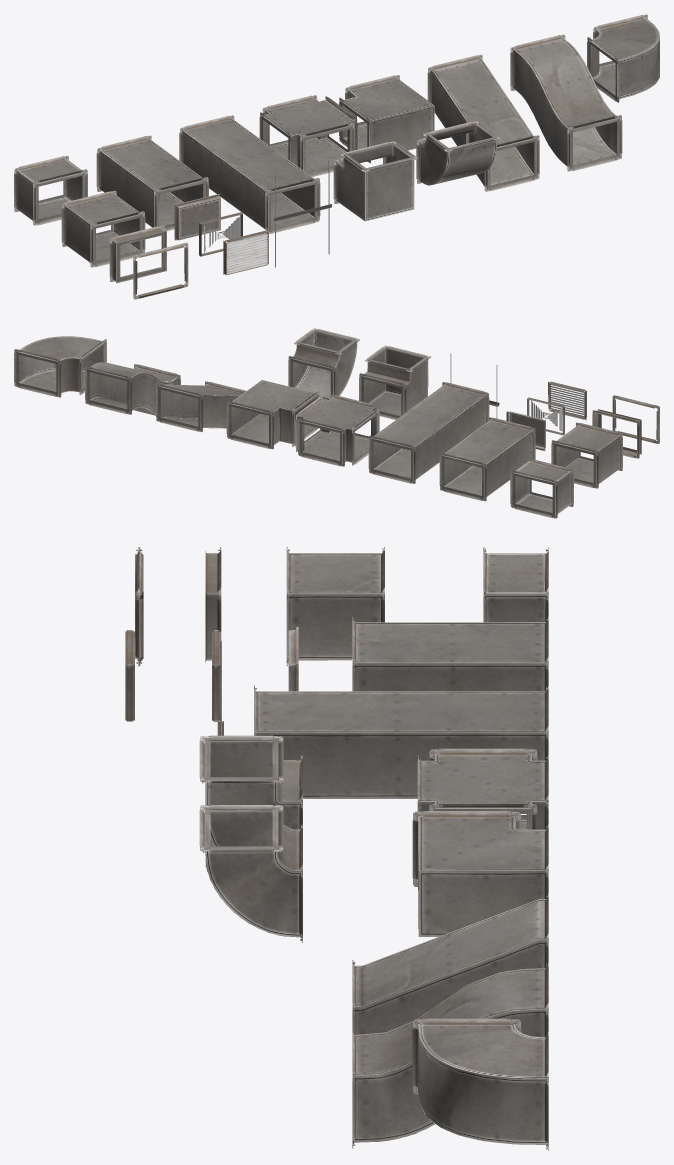
File: modular_airduct_rectangular_01_game.gltf
3 views of the same model, one above another, from view 1: azimuth 30°, elevation 25°; view 2: azimuth 150°, elevation 25°; view 3: azimuth 270°, elevation 25° (orthographic). The views are drawn at different scales.
Parts seen in each view (by area): view 1: modular_airduct_rectangular_01_transition_double_02, modular_airduct_rectangular_01_tripple_01, modular_airduct_rectangular_01_transition_double_01, modular_airduct_rectangular_01_double_01, modular_airduct_rectangular_01_splitter_01, modular_airduct_rectangular_01_corner_01, modular_airduct_rectangular_01_corner_02, modular_airduct_rectangular_01_bend_02, modular_airduct_rectangular_01_single_01, modular_airduct_rectangular_01_bend_01, modular_airduct_rectangular_01_half_01, modular_airduct_rectangular_01_vent_closed_01 (+4 smaller); view 2: modular_airduct_rectangular_01_tripple_01, modular_airduct_rectangular_01_double_01, modular_airduct_rectangular_01_splitter_01, modular_airduct_rectangular_01_corner_02, modular_airduct_rectangular_01_bend_02, modular_airduct_rectangular_01_corner_01, modular_airduct_rectangular_01_bend_01, modular_airduct_rectangular_01_transition_double_02, modular_airduct_rectangular_01_single_01, modular_airduct_rectangular_01_transition_double_01, modular_airduct_rectangular_01_half_01, modular_airduct_rectangular_01_vent_01 (+4 smaller); view 3: modular_airduct_rectangular_01_tripple_01, modular_airduct_rectangular_01_bend_02, modular_airduct_rectangular_01_corner_02, modular_airduct_rectangular_01_double_01, modular_airduct_rectangular_01_transition_double_01, modular_airduct_rectangular_01_transition_double_02, modular_airduct_rectangular_01_bend_01, modular_airduct_rectangular_01_single_01, modular_airduct_rectangular_01_splitter_01, modular_airduct_rectangular_01_corner_01, modular_airduct_rectangular_01_half_01, modular_airduct_rectangular_01_connector_01 (+2 smaller).
Boxes of the visible parts, x1,y1,x2,y2 form: modular_airduct_rectangular_01_transition_double_02: (510,34,622,171); modular_airduct_rectangular_01_tripple_01: (179,115,320,233); modular_airduct_rectangular_01_transition_double_01: (427,54,539,191); modular_airduct_rectangular_01_double_01: (96,135,208,230); modular_airduct_rectangular_01_splitter_01: (259,95,357,176); modular_airduct_rectangular_01_corner_01: (333,141,417,221); modular_airduct_rectangular_01_corner_02: (339,75,434,163); modular_airduct_rectangular_01_bend_02: (587,14,659,102); modular_airduct_rectangular_01_single_01: (61,190,145,267); modular_airduct_rectangular_01_bend_01: (416,121,500,185); modular_airduct_rectangular_01_half_01: (14,155,87,225); modular_airduct_rectangular_01_vent_closed_01: (174,194,220,240); modular_airduct_rectangular_01_tripple_01: (368,382,489,483); modular_airduct_rectangular_01_double_01: (439,417,535,501); modular_airduct_rectangular_01_splitter_01: (295,394,379,466); modular_airduct_rectangular_01_corner_02: (226,380,319,449); modular_airduct_rectangular_01_bend_02: (14,336,106,397); modular_airduct_rectangular_01_corner_01: (359,345,430,419); modular_airduct_rectangular_01_bend_01: (288,328,359,399); modular_airduct_rectangular_01_transition_double_02: (85,362,180,415); modular_airduct_rectangular_01_single_01: (551,422,622,488); modular_airduct_rectangular_01_transition_double_01: (156,381,245,431); modular_airduct_rectangular_01_half_01: (510,458,573,518); modular_airduct_rectangular_01_vent_01: (548,381,586,420); modular_airduct_rectangular_01_tripple_01: (254,685,548,798); modular_airduct_rectangular_01_bend_02: (412,1018,548,1150); modular_airduct_rectangular_01_corner_02: (412,811,548,936); modular_airduct_rectangular_01_double_01: (352,616,548,691); modular_airduct_rectangular_01_transition_double_01: (352,893,548,1034); modular_airduct_rectangular_01_transition_double_02: (352,962,548,1148); modular_airduct_rectangular_01_bend_01: (199,805,302,942); modular_airduct_rectangular_01_single_01: (286,547,384,666); modular_airduct_rectangular_01_splitter_01: (417,748,548,829); modular_airduct_rectangular_01_corner_01: (199,735,302,867); modular_airduct_rectangular_01_half_01: (483,547,548,622); modular_airduct_rectangular_01_connector_01: (205,547,221,662).
Size of the model in its own units: 7.66 by 1.26 by 2.59.
Materials: 2 (2 with a texture image).
